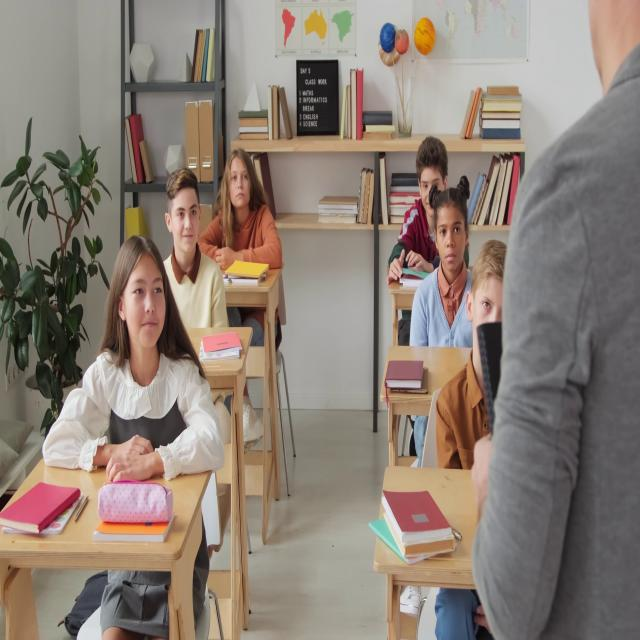listening: (41, 239, 225, 638), (203, 152, 284, 431), (434, 243, 507, 475), (379, 128, 464, 295), (162, 169, 231, 337), (409, 181, 476, 353)
